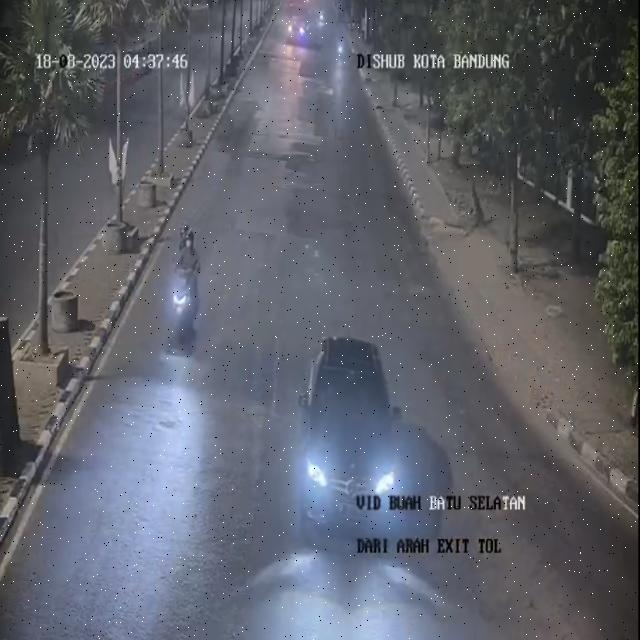cars: (301, 321, 415, 548)
motorcycle: (166, 220, 206, 354), (333, 23, 347, 66)
truck: (278, 0, 316, 52)
